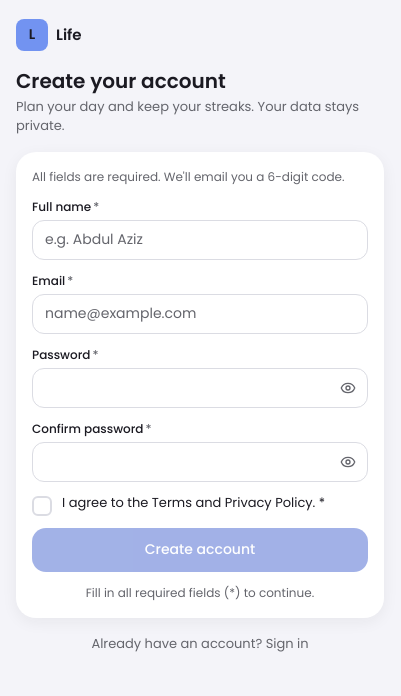
Test: Sign-up form › keeps Create account disabled until every field is valid
expect the button "Create account" is disabled: met, box x1=32 y1=528 x2=368 y2=572
Type "Abdul Aziz" into the field labelled "Full name*" at (200, 240), box x1=32 y1=220 x2=368 y2=260
Type "abdul@example.com" into the field labelled "Email*" at (200, 314), box x1=32 y1=294 x2=368 y2=334
Type "weakpass" into the password field labelled "Password*" at (200, 388), box x1=32 y1=368 x2=368 y2=408
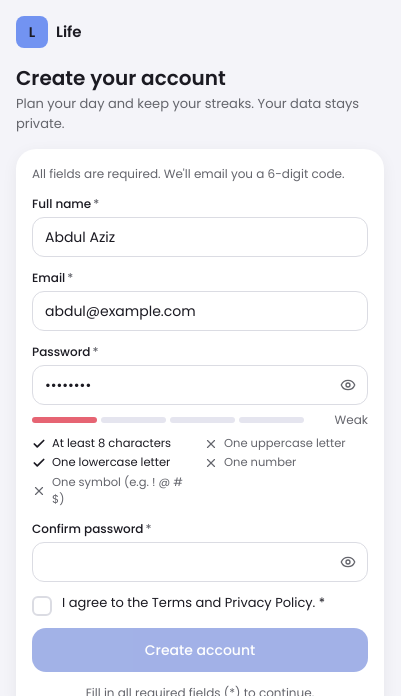
Type "weakpass" into the password field labelled "Confirm password*" at (200, 562), box x1=32 y1=542 x2=368 y2=582
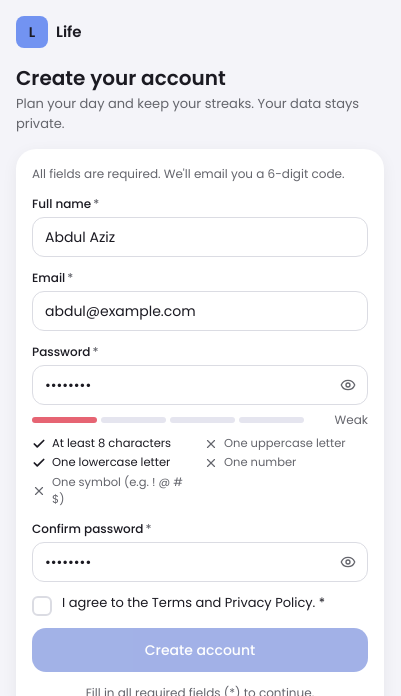
Click the checkbox at (42, 606), box x1=32 y1=596 x2=52 y2=616
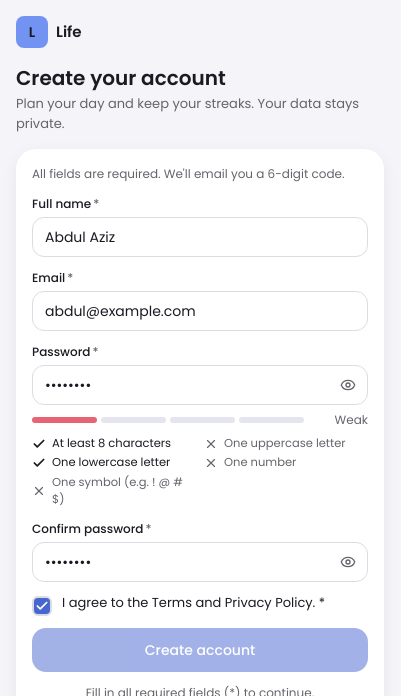
expect the button "Create account" is disabled: met, box x1=32 y1=628 x2=368 y2=672
Type "Str0ng!pass" into the password field labelled "Password*" at (200, 385), box x1=32 y1=365 x2=368 y2=405
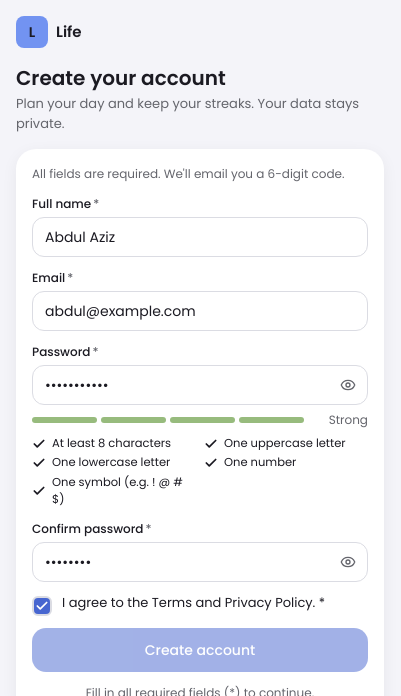
expect the button "Create account" is disabled: met, box x1=32 y1=628 x2=368 y2=672
Type "Str0ng!pass" into the password field labelled "Confirm password*" at (200, 562), box x1=32 y1=542 x2=368 y2=582
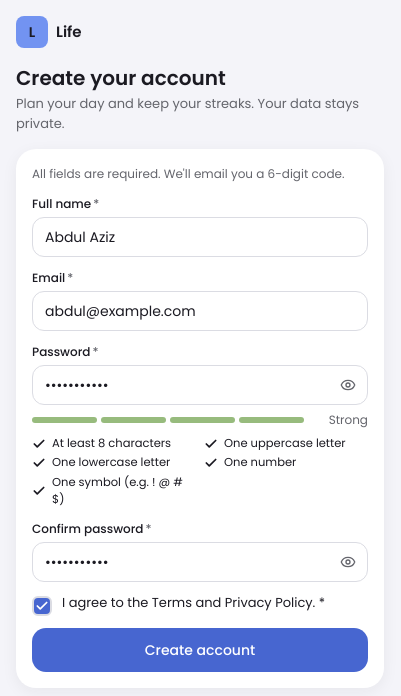
expect the button "Create account" is enabled: met, box x1=32 y1=628 x2=368 y2=672
Click the checkbox at (42, 606), box x1=32 y1=596 x2=52 y2=616
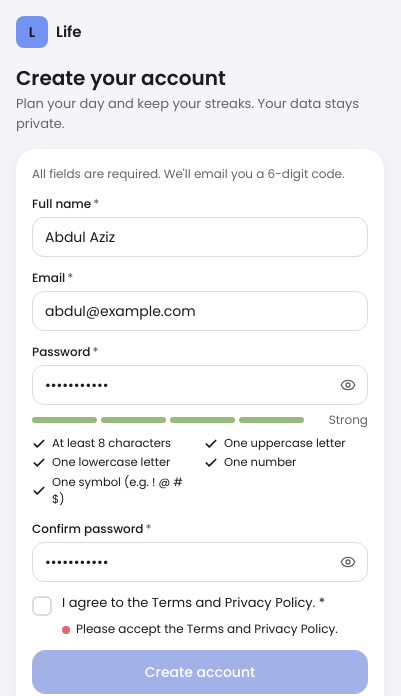
expect the button "Create account" is disabled: met, box x1=32 y1=650 x2=368 y2=694
